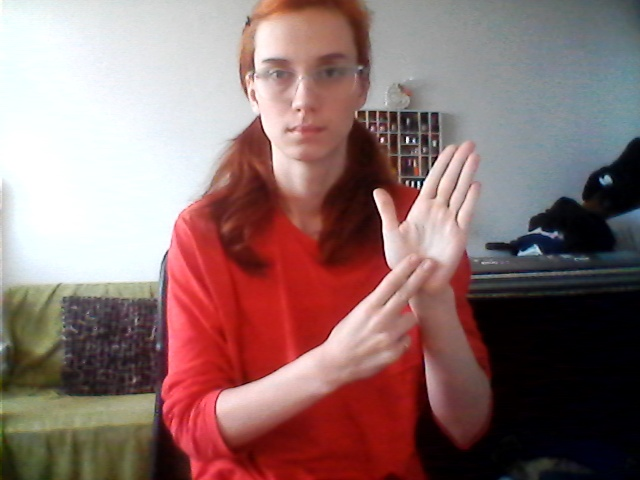n: (346, 134, 486, 378)
